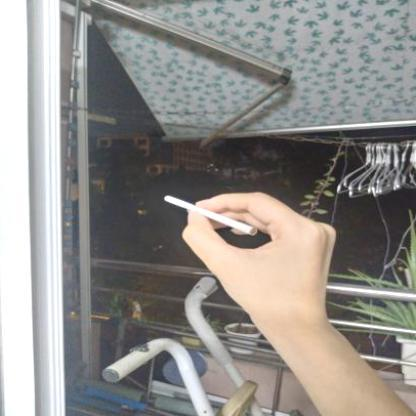cigarette: (160, 193, 260, 238)
